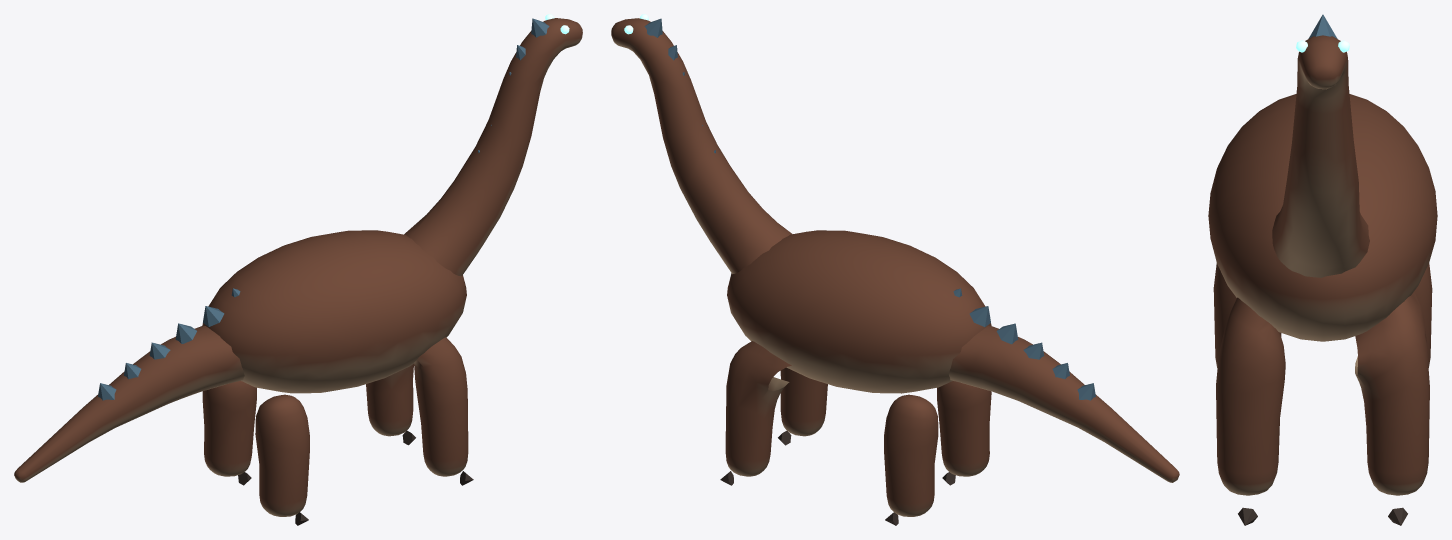
File: mokele-mbembe.glb
3 renders of one model, left to right at view 1: azimuth 30°, elevation 25°; view 2: azimuth 150°, elevation 25°; view 3: azimuth 270°, elevation 25°, orthographic. The views are drawn at different scales.
Parts seen in each view (by area): view 1: mokele-mbembe.001; view 2: mokele-mbembe.001; view 3: mokele-mbembe.001.
Part boxes in pixels (left/top/right/bottom): mokele-mbembe.001: left=14, top=14, right=582, bottom=525; mokele-mbembe.001: left=611, top=14, right=1179, bottom=525; mokele-mbembe.001: left=1208, top=14, right=1437, bottom=525.
Size of the model in its own units: 4.26 by 3.04 by 1.1.
